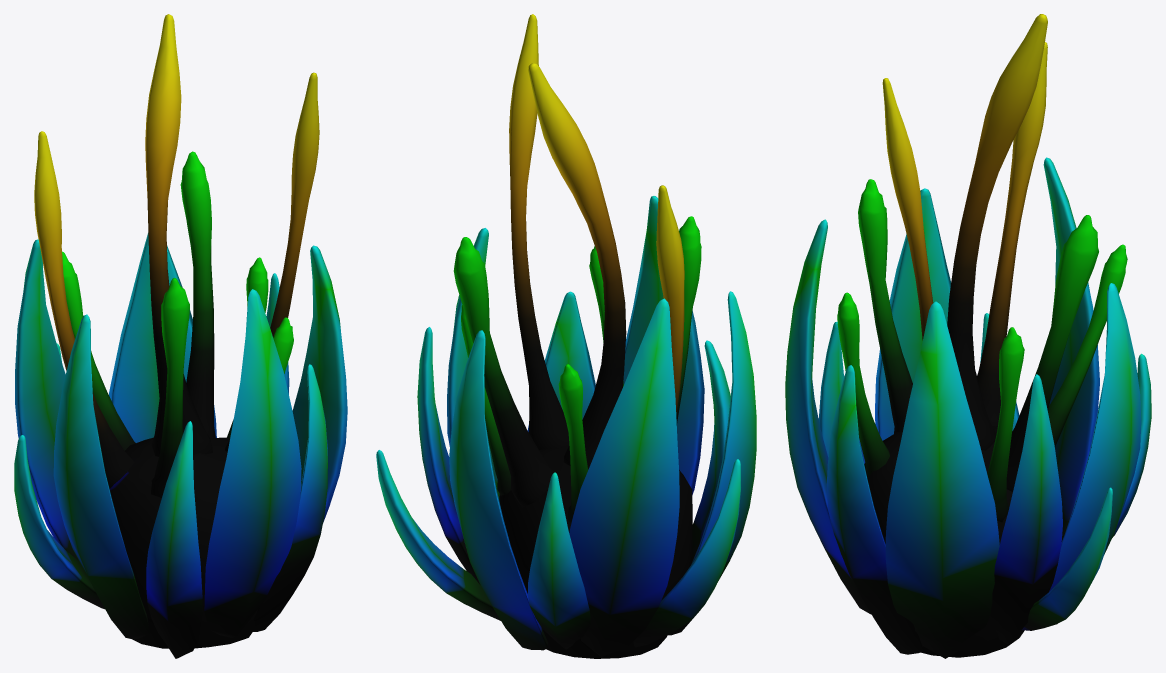
The model's file is Tree01_Bush.fbx.
3 renders of one model, left to right at view 1: azimuth 30°, elevation 25°; view 2: azimuth 150°, elevation 25°; view 3: azimuth 270°, elevation 25°, orthographic. The views are drawn at different scales.
Parts seen in each view (by area): view 1: Tree01_bush; view 2: Tree01_bush; view 3: Tree01_bush.
Boxes of the visible parts, x1,y1,x2,y2 form: Tree01_bush: (14, 14, 347, 658); Tree01_bush: (376, 14, 756, 658); Tree01_bush: (785, 14, 1151, 658).
Size of the model in its own units: 67.58 by 123 by 64.92.
